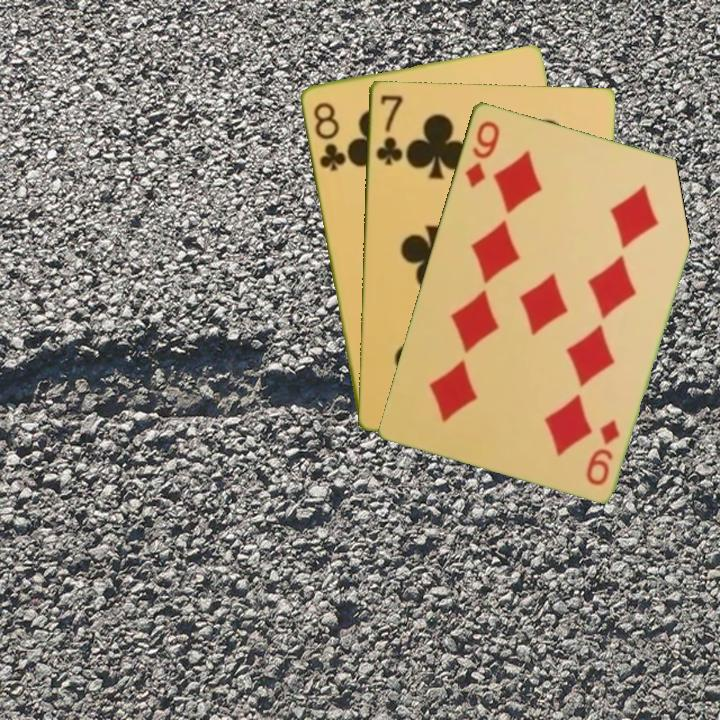7c: (373, 91, 405, 168)
8c: (309, 98, 349, 174)
9d: (460, 116, 502, 190), (582, 415, 623, 488)
